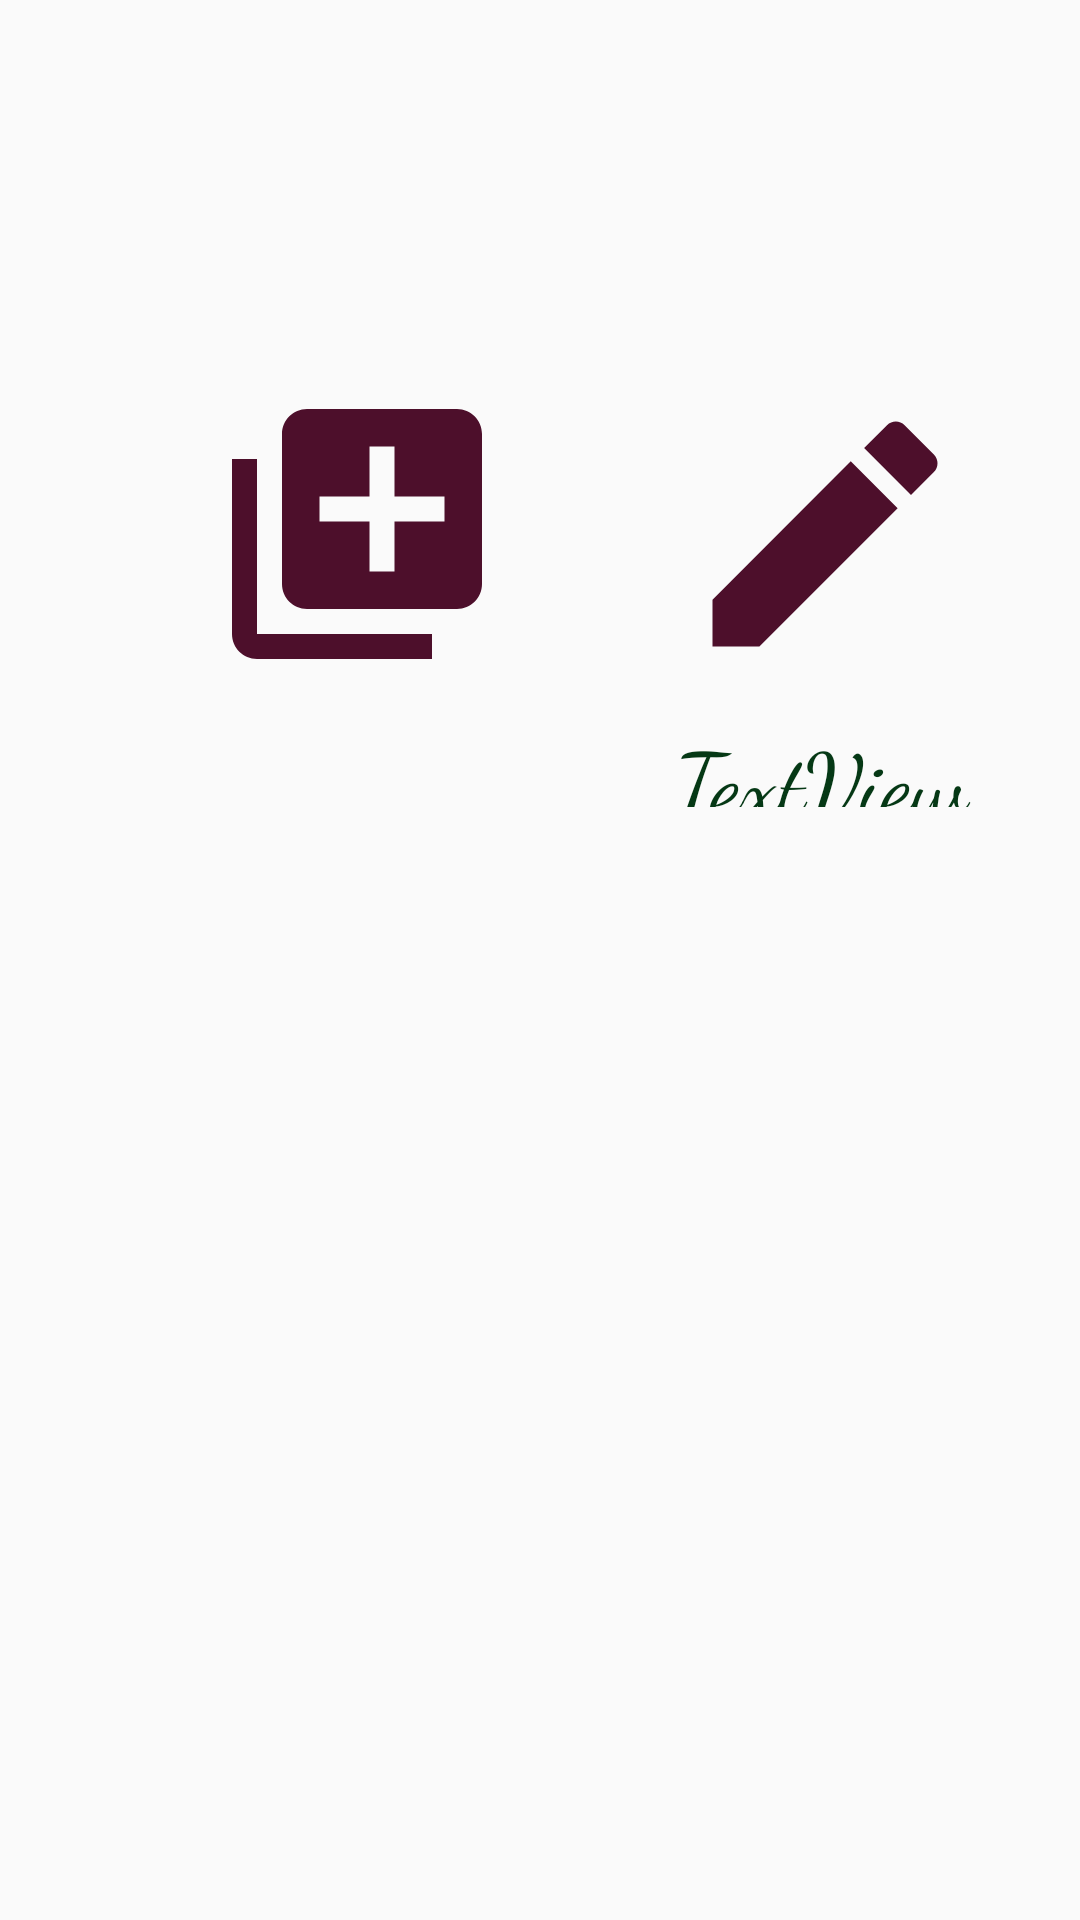

Icons on this 1080w x 1920h Android screen, each with the point to tap as [x,y]:
edit: [825,534]
post: [357,534]
